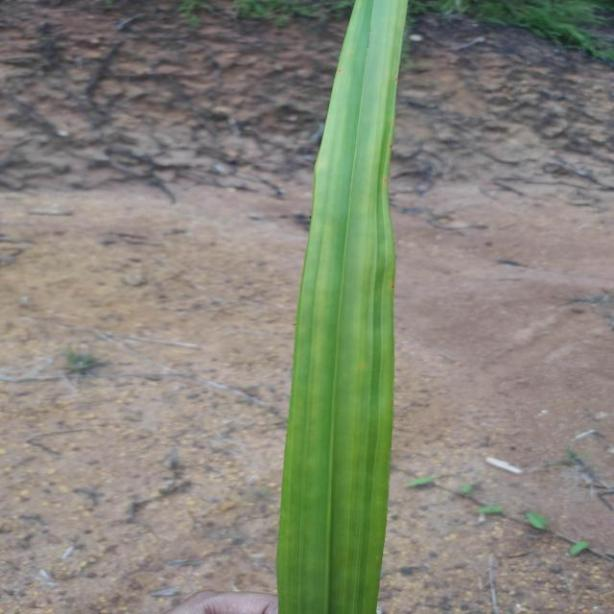nitrogen: (276, 0, 412, 614)
